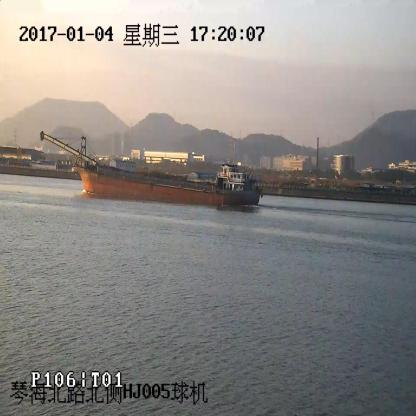Bulk Carrier: (41, 132, 262, 205)
